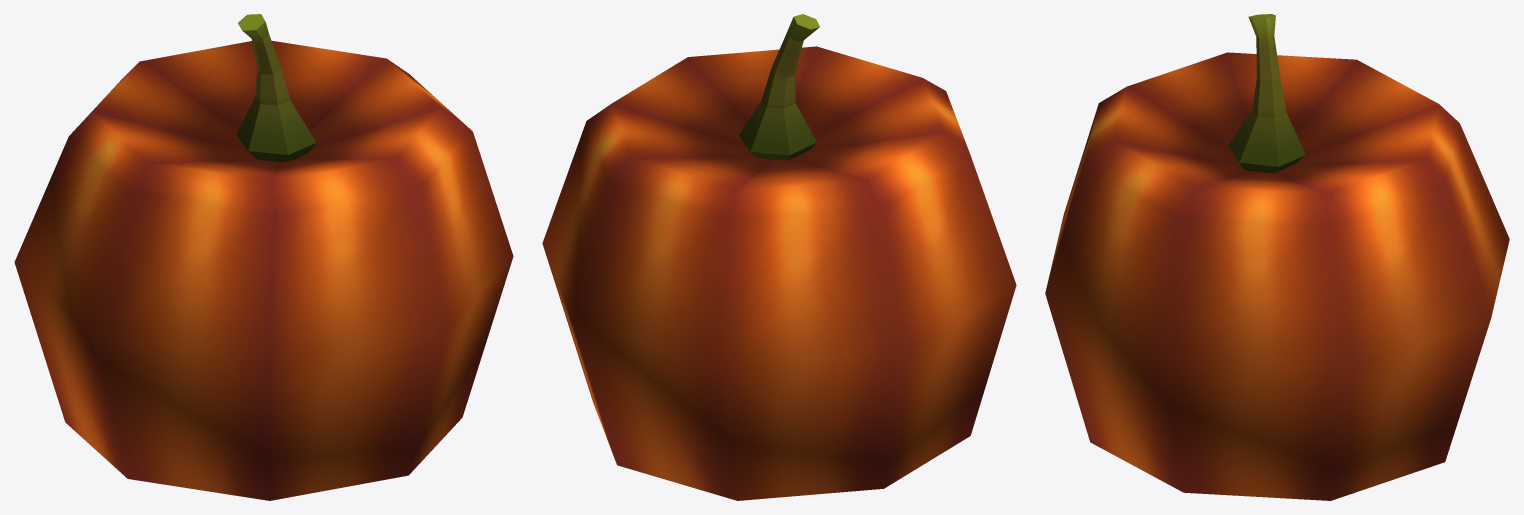
The model's file is Pumpkin.FBX.
3 views of the same model, side by side, from view 1: azimuth 30°, elevation 25°; view 2: azimuth 150°, elevation 25°; view 3: azimuth 270°, elevation 25° (orthographic). The views are drawn at different scales.
Visible parts, largest first — view 1: Pumpkin; view 2: Pumpkin; view 3: Pumpkin.
Part boxes in pixels (box(x1,y1,x2,y2)): Pumpkin: box(14, 14, 513, 500); Pumpkin: box(542, 14, 1016, 500); Pumpkin: box(1045, 14, 1509, 500).
Bounding box in the file's own units: 43.38 × 45.21 × 43.38.
